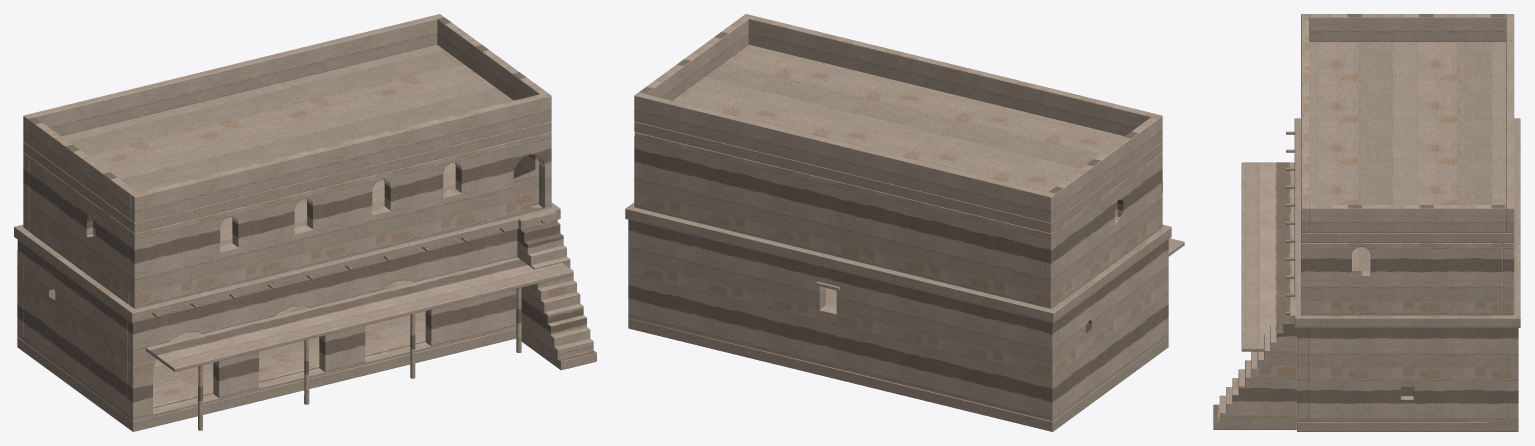
Rendered from shops_4.glb.
The picture shows the model from 3 angles, left to right: view 1: azimuth 30°, elevation 25°; view 2: azimuth 150°, elevation 25°; view 3: azimuth 270°, elevation 25°; orthographic projection. The views are drawn at different scales.
Visible parts, largest first — view 1: shops; view 2: shops; view 3: shops.
Boxes of the visible parts, box(x1,y1,x2,y2) form: shops: box(14, 14, 596, 431); shops: box(625, 14, 1184, 431); shops: box(1213, 14, 1520, 431).
Bounding box in the file's own units: 17.16 × 8.9 × 11.16.
3 materials, 3 textured.
